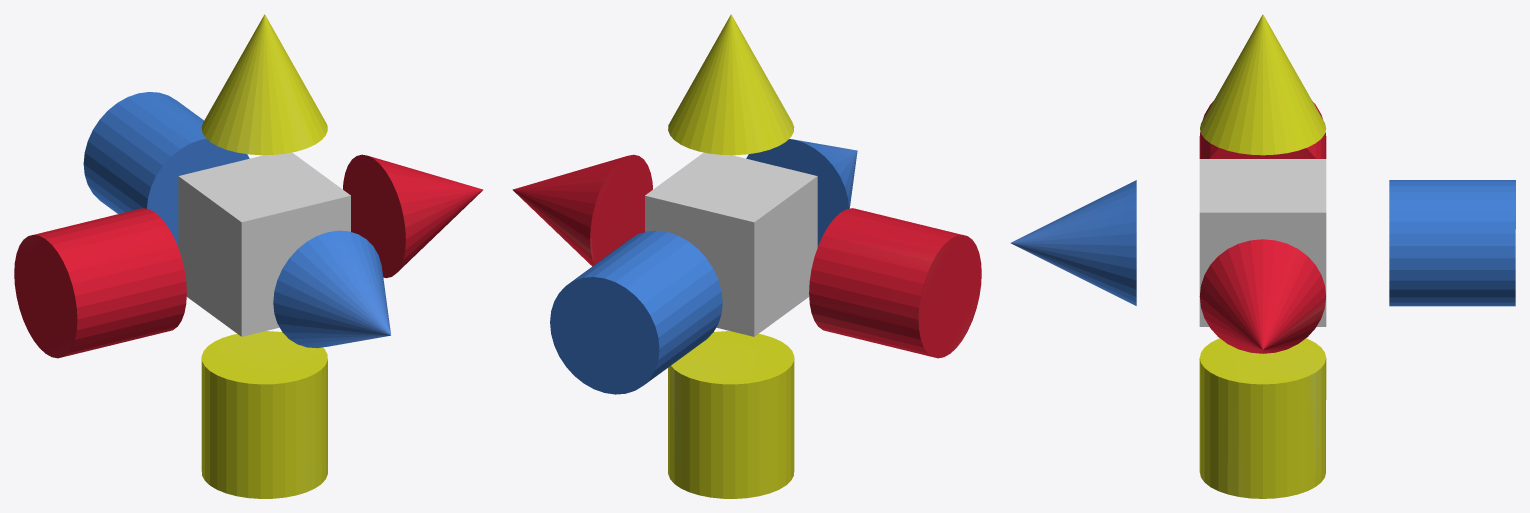
File: compass.glb
3 renders of one model, left to right at view 1: azimuth 30°, elevation 25°; view 2: azimuth 150°, elevation 25°; view 3: azimuth 270°, elevation 25°, orthographic.
Parts seen in each view (by area): view 1: Cylinder.001; view 2: Cylinder.001; view 3: Cylinder.001.
Boxes of the visible parts, <box> form: Cylinder.001: <box>14,14,483,498</box>; Cylinder.001: <box>512,14,981,498</box>; Cylinder.001: <box>1010,14,1515,498</box>.
Size of the model in its own units: 8 by 8 by 8.
